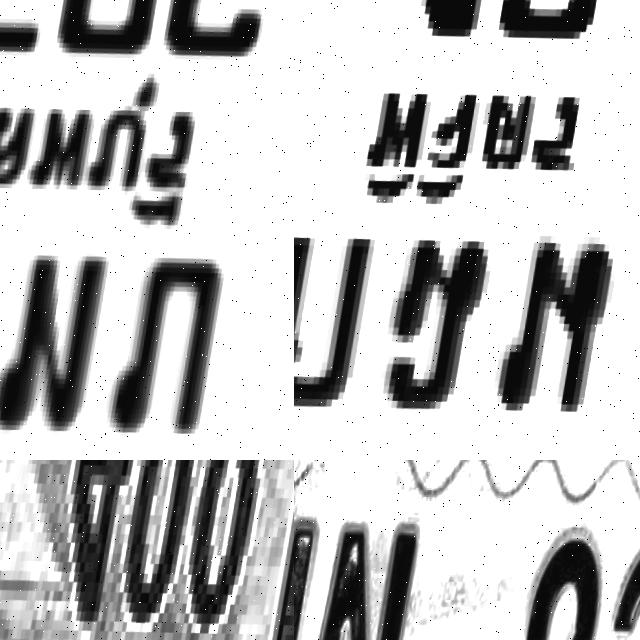license-plate: (294, 0, 640, 460), (0, 0, 294, 460), (294, 460, 640, 640), (0, 460, 294, 640)
